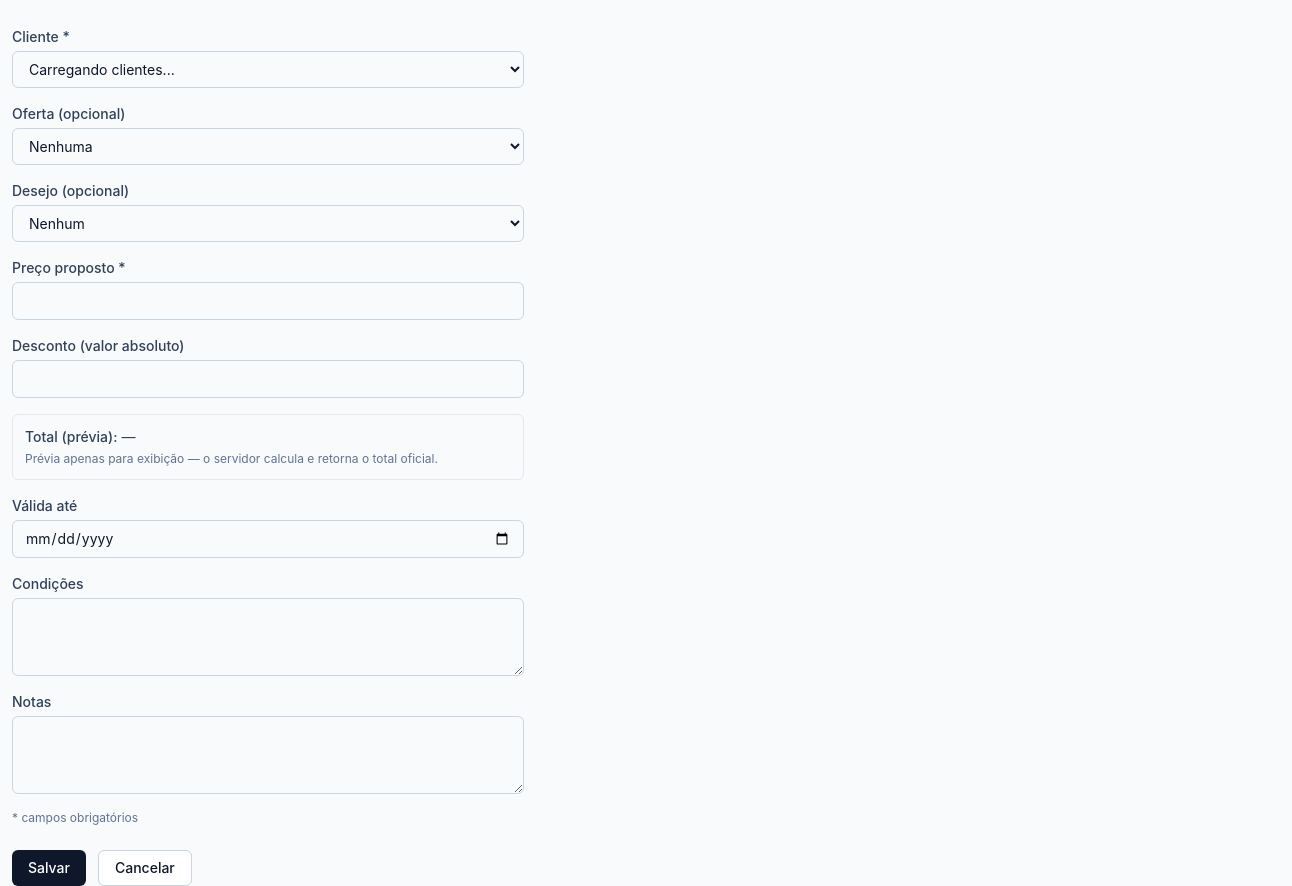
Test: ProposalFormPage › error div has role="alert" for screen readers
The image size is (1292, 886).
(page scrolled)
Expected: the dropdown labelled "Cliente *" is shown, [12, 51, 524, 88]
What coordinates should you click on to do the following:
click the button "Salvar"
I would click on:
 (49, 868)
Its box is [12, 850, 86, 885].
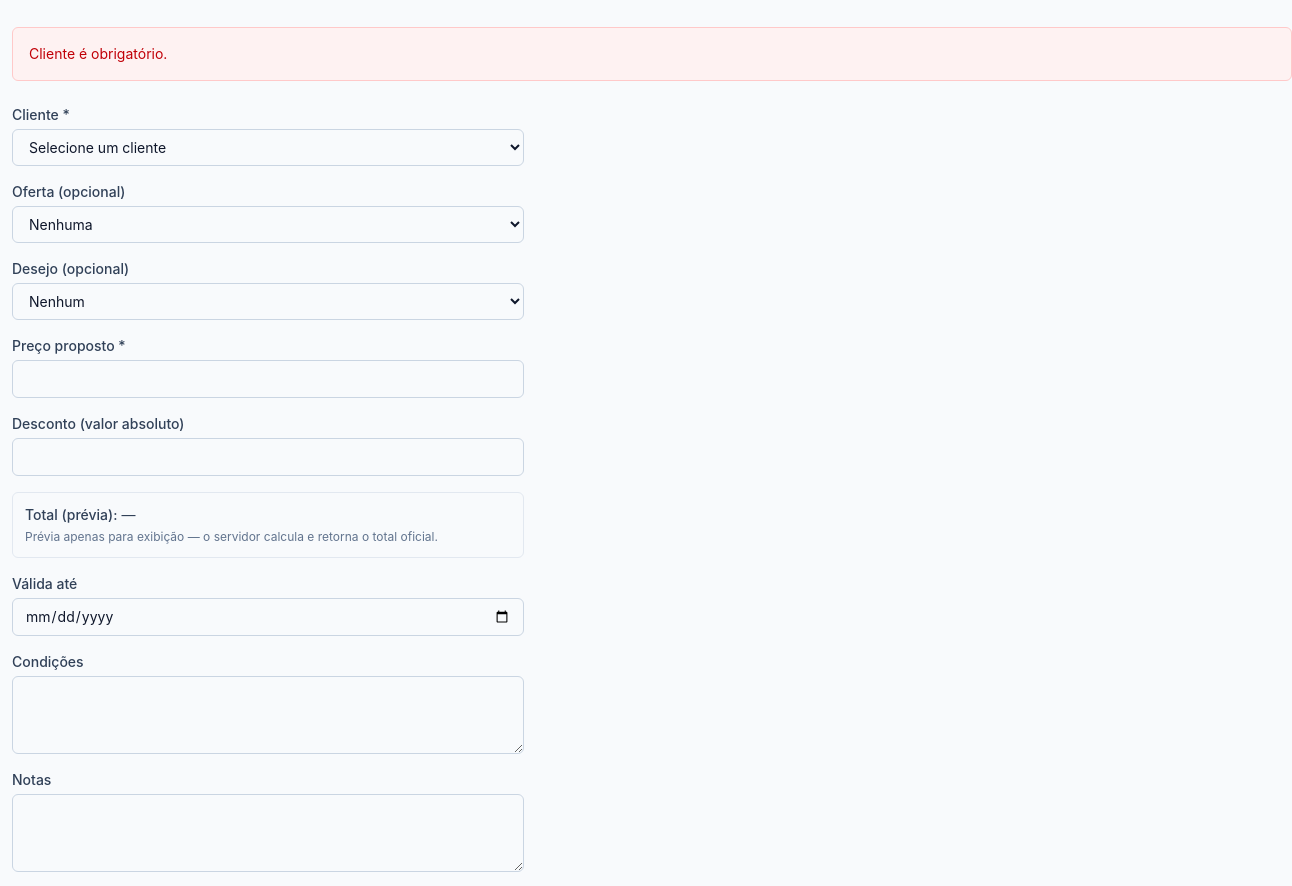
Result: the message reads "Cliente é obrigatório." at [29, 45, 167, 62]
